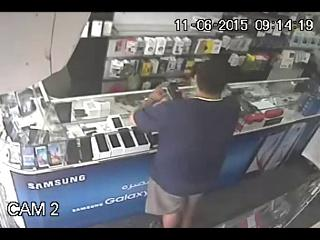Normal: (130, 58, 242, 225)
